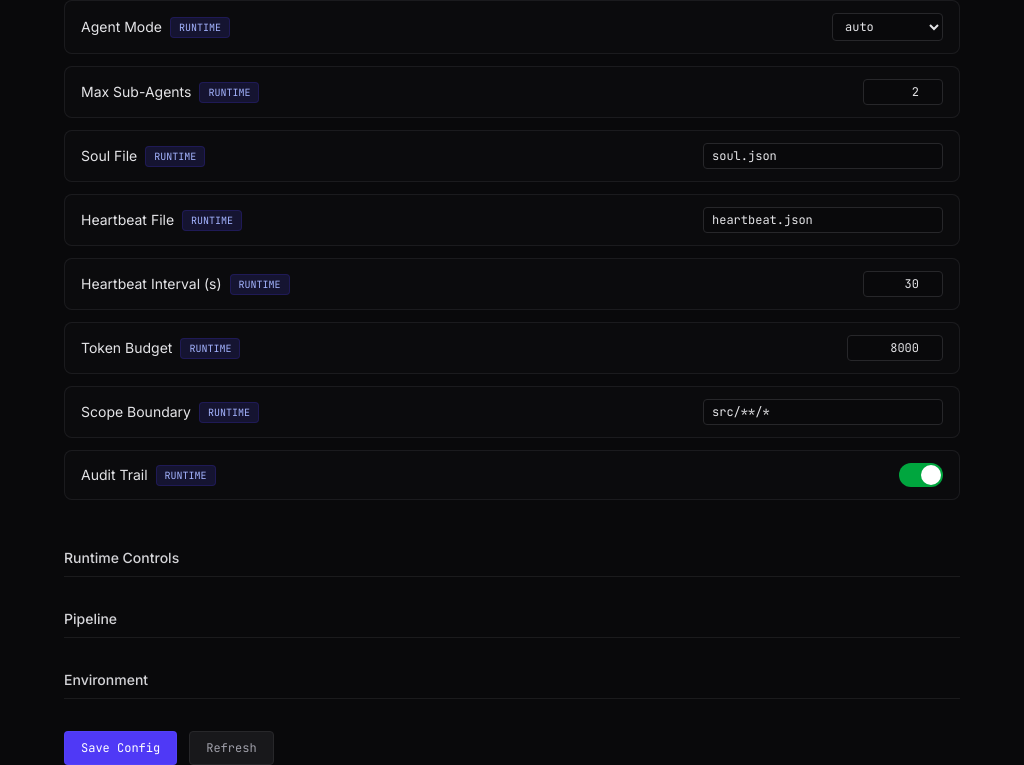
Test: Settings › clicking Pipeline section shows range sliders and Max Iterations
The image size is (1024, 765).
(page scrolled)
Click the button "Pipeline" at (91, 618), box [64,601,960,638]
(page scrolled)
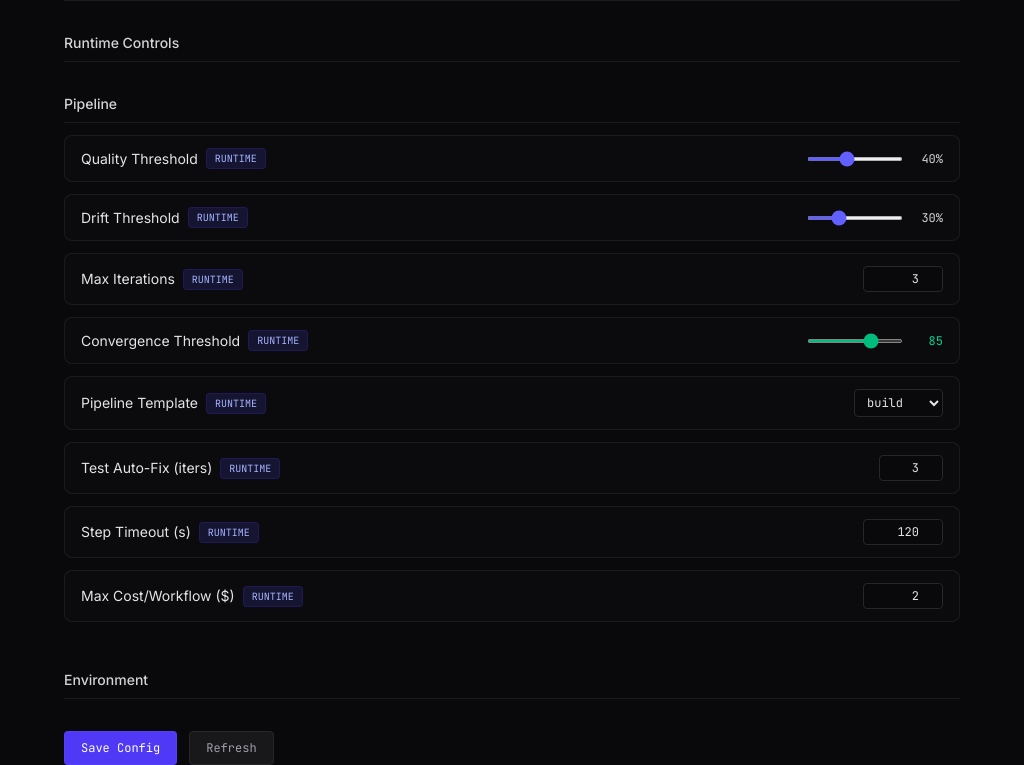
Expected: the text "Max Iterations" is shown, [81,269,175,289]
Expected: the text "Quality Threshold" is shown, [81,148,198,168]
Expected: the text "Drift Threshold" is shown, [81,208,180,228]
